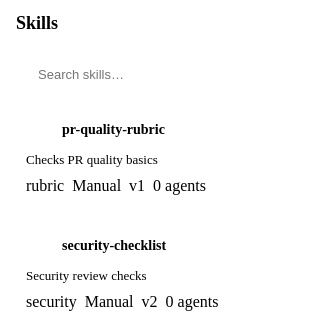
Test: SkillsSidebar › filters the list via the search input
This screenshot has width=320, height=328.
Type "security" into the field with placeholder "Search skills…" at (145, 75), box [36,66,254,83]
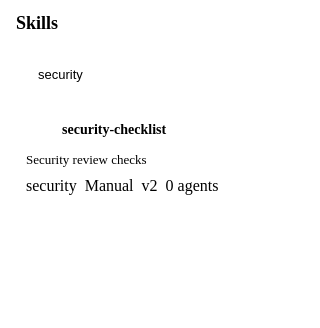
Expected: the text "security-checklist" is shown, [62,122,166,137]
Expected: the text "pr-quality-rubric" is gone
